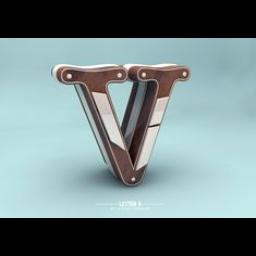v: (48, 56, 192, 188)
